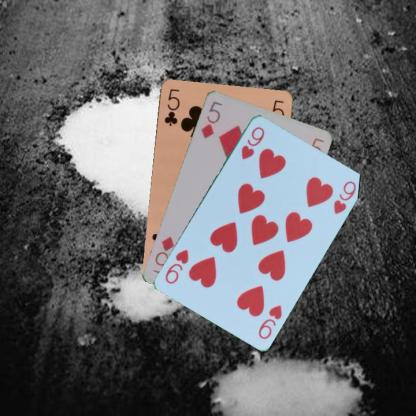5c: (161, 86, 181, 127)
5d: (198, 98, 224, 140)
9h: (255, 302, 283, 340), (238, 124, 266, 160)
